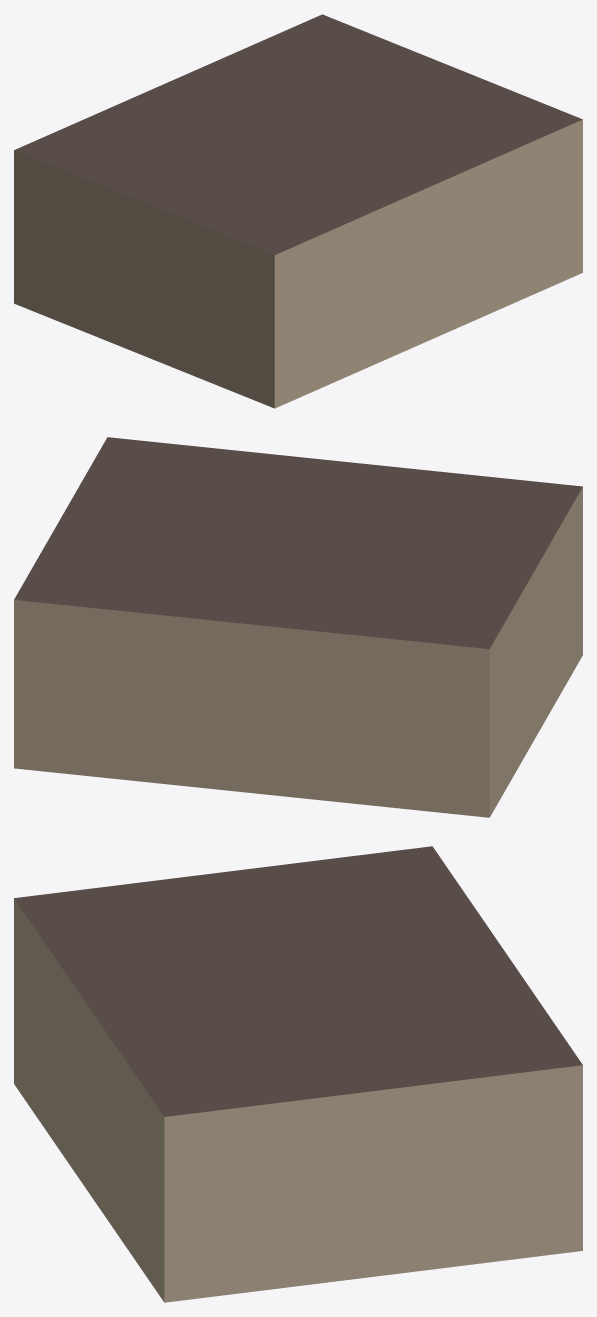
3 renders of one model, top to bottom at view 1: azimuth 30°, elevation 25°; view 2: azimuth 150°, elevation 25°; view 3: azimuth 270°, elevation 25°, orthographic. The views are drawn at different scales.
Visible parts, largest first — view 1: HP-w859091018; view 2: HP-w859091018; view 3: HP-w859091018.
Boxes of the visible parts, x1=… form: HP-w859091018: x1=14, y1=14, x2=582, y2=408; HP-w859091018: x1=14, y1=437, x2=582, y2=817; HP-w859091018: x1=14, y1=846, x2=582, y2=1302.
Size of the model in its own units: 28.15 by 9 by 24.99.
